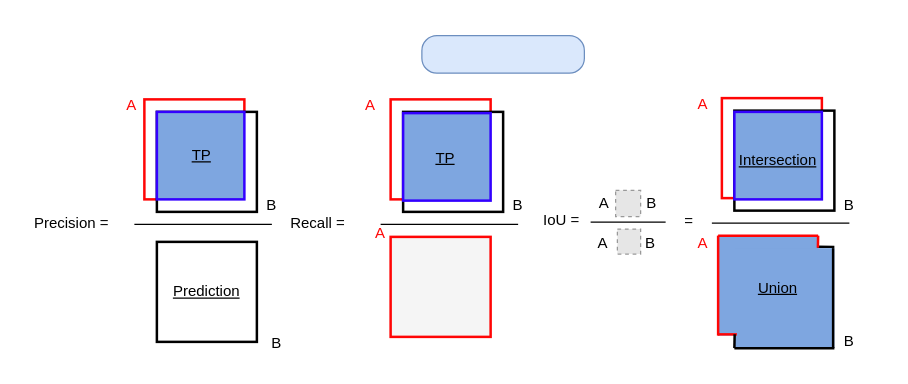
This 908x384 diagram has some shape labels left out. Grey dashed boxes stand in for pictures. The shapes that lost their labels are listed below. From the top down, each one's box as (x1, y1, x2, y2) in pixels, then its label:
(421, 34, 584, 73): Object A Prediction B
(389, 235, 491, 338): Ground truth
